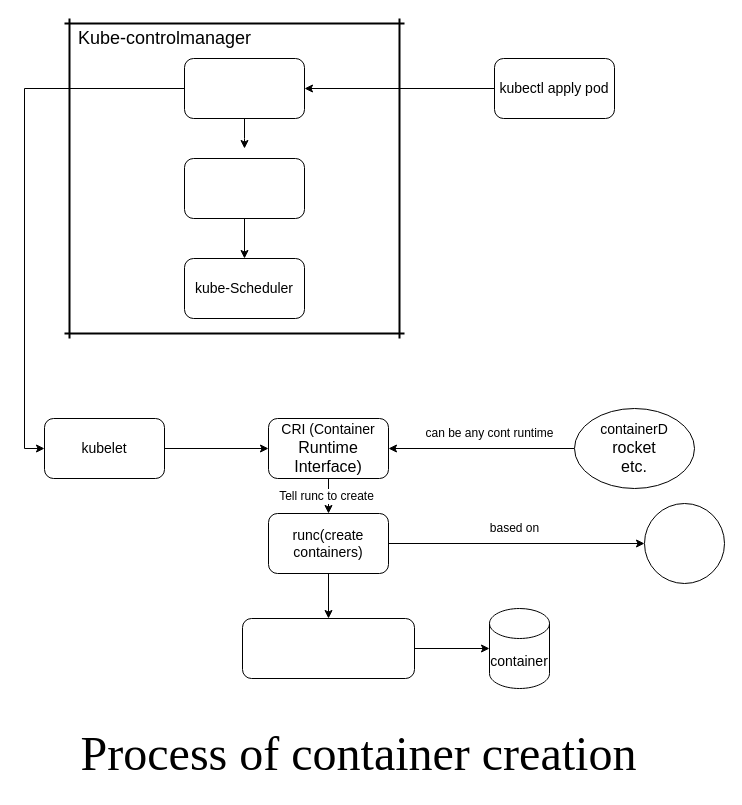
Some shapes in this 742 by 805 pixel diagram are drawn without their labels. Each missing label, with the centre of its shape:
cgroups(control, manage or limit the resources to a container): the point at 328,648
etcd: the point at 244,188
kube-apiServer: the point at 244,88
OCI(open Container initiative): the point at 684,543
